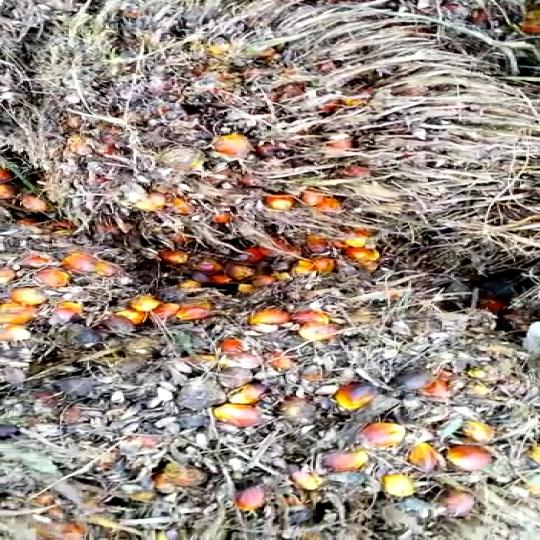terlalu masak: (0, 0, 514, 256)
